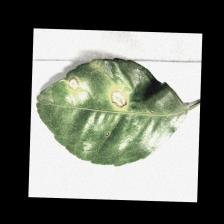canker: (59, 56, 134, 145)
